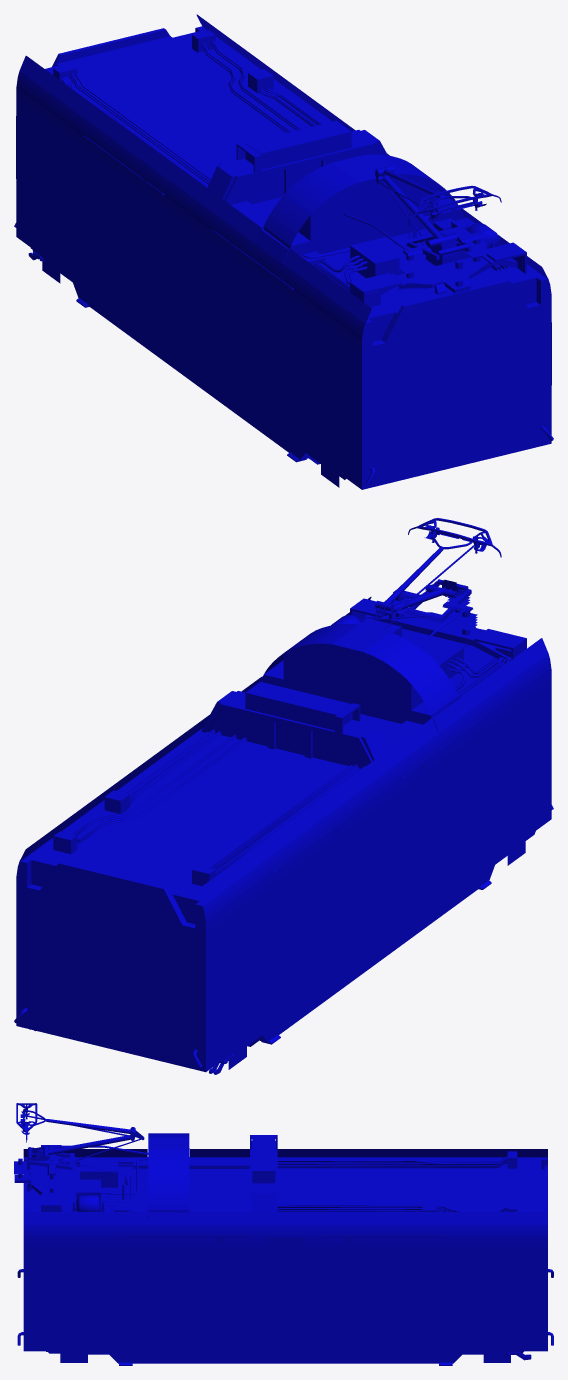
The picture shows the model from 3 angles, top to bottom: view 1: azimuth 30°, elevation 25°; view 2: azimuth 150°, elevation 25°; view 3: azimuth 270°, elevation 25°; orthographic projection. The views are drawn at different scales.
Visible parts, largest first — view 1: omneo 4.005Regio 2N STIF 8-car; view 2: omneo 4.005Regio 2N STIF 8-car; view 3: omneo 4.005Regio 2N STIF 8-car.
Boxes of the visible parts, x1=… form: omneo 4.005Regio 2N STIF 8-car: x1=14, y1=14, x2=553, y2=489; omneo 4.005Regio 2N STIF 8-car: x1=14, y1=518, x2=553, y2=1074; omneo 4.005Regio 2N STIF 8-car: x1=14, y1=1103, x2=553, y2=1365.
Bounding box in the file's own units: 3.14 × 4.93 × 9.91.
